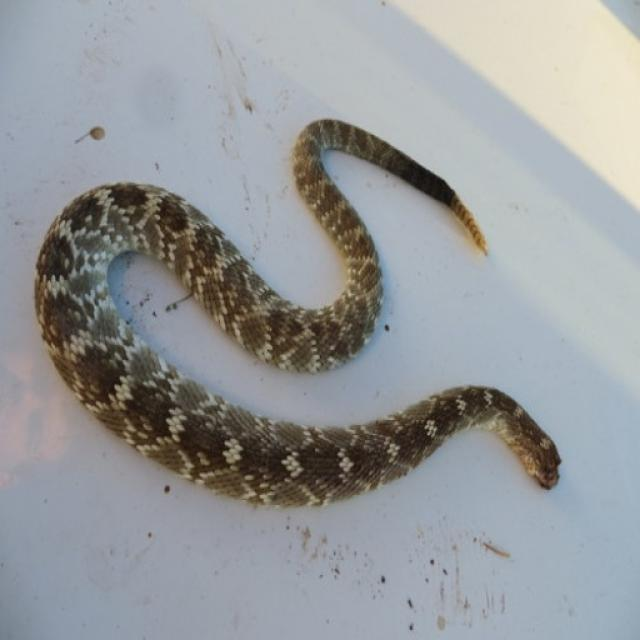snake: (28, 109, 578, 539)
